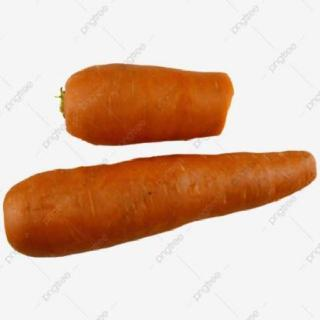carrot: (4, 146, 318, 260), (56, 64, 236, 148)
